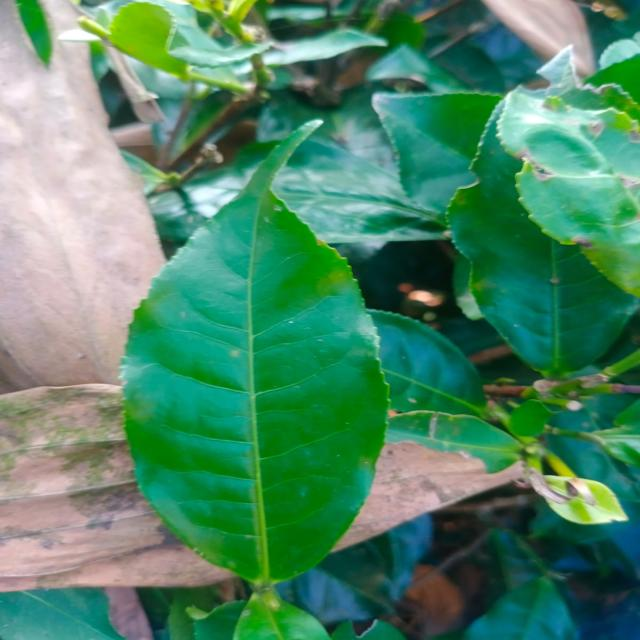Category D(7+ days, Not for Tea): (86, 106, 394, 605)
